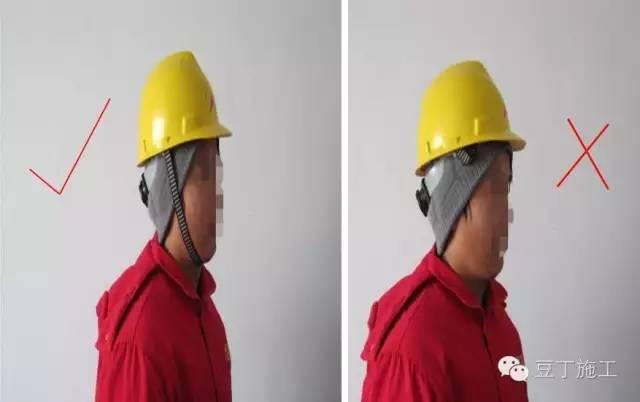helmet: (411, 63, 523, 179), (131, 48, 240, 167)
